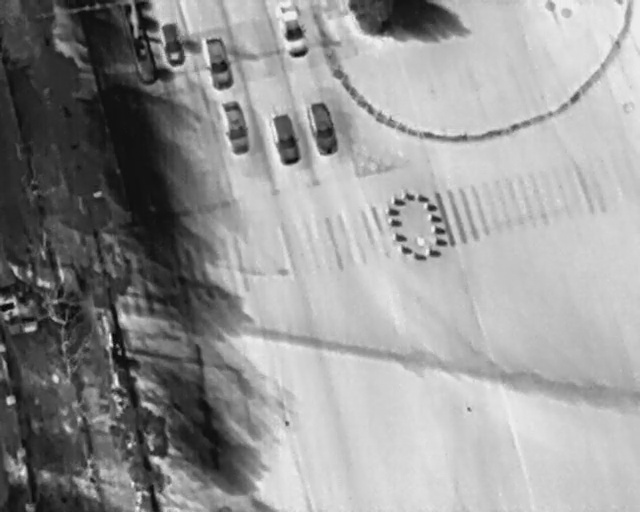Car: (273, 0, 311, 61), (303, 99, 340, 158), (201, 32, 236, 92), (220, 99, 253, 157), (269, 113, 302, 167), (156, 20, 187, 68)
